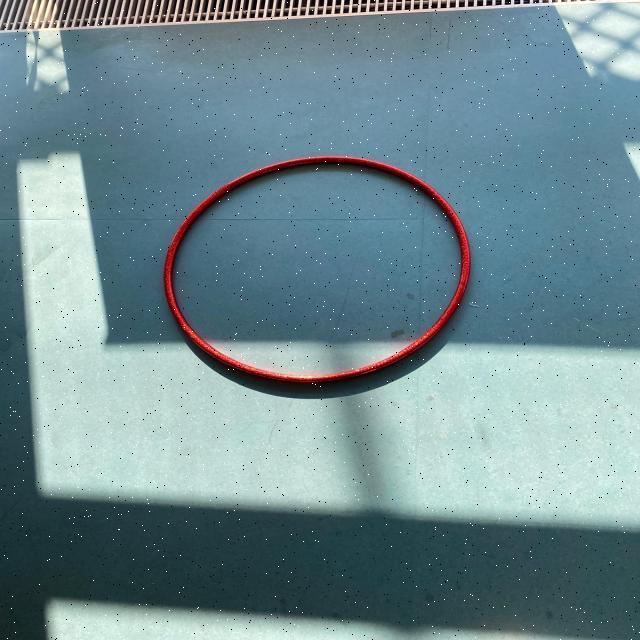Circle: (153, 148, 479, 394)
